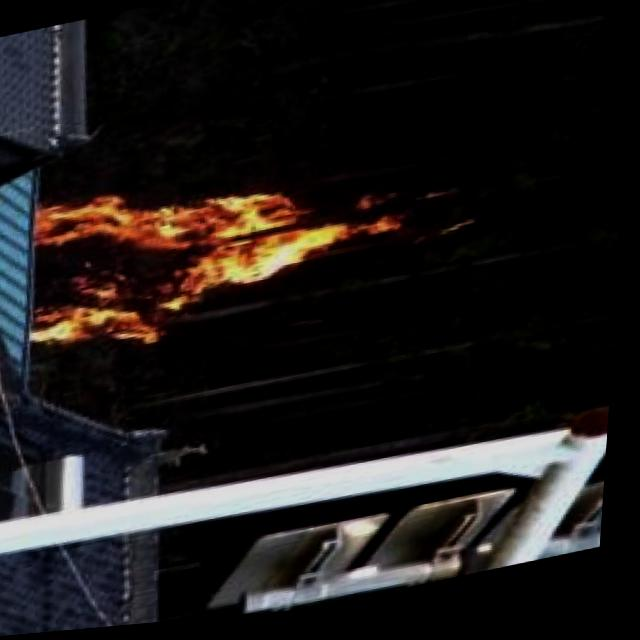Fire: (18, 139, 422, 363)
